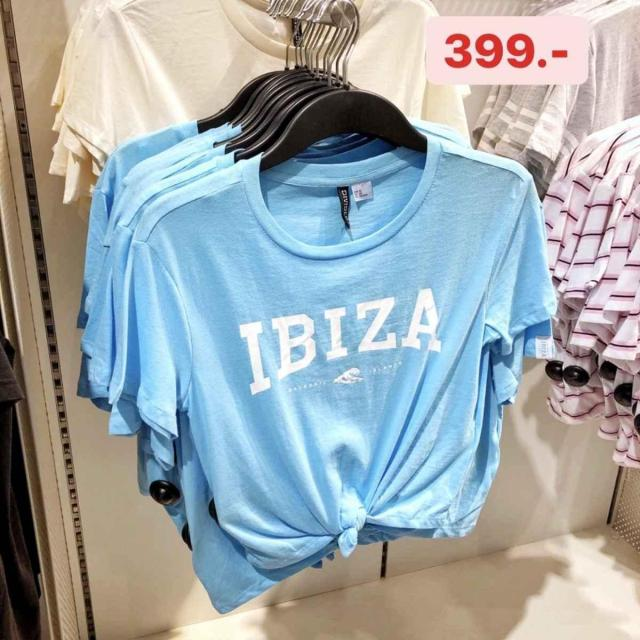Tshirt: (106, 140, 553, 555)
